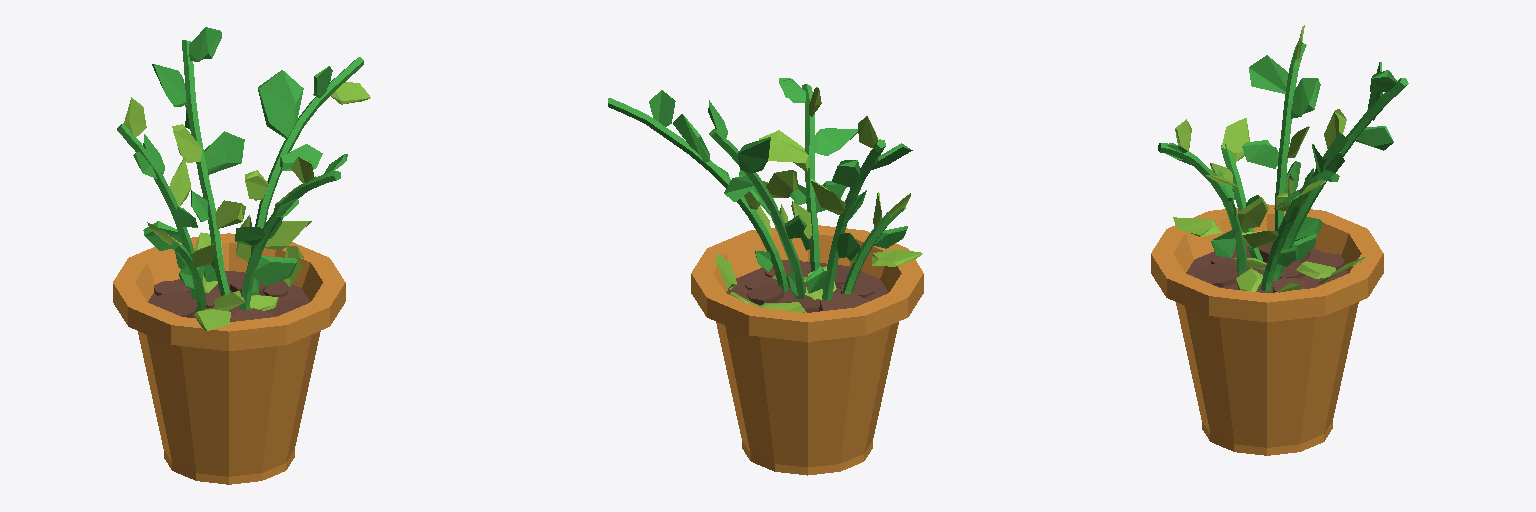
3 renders of one model, left to right at view 1: azimuth 30°, elevation 25°; view 2: azimuth 150°, elevation 25°; view 3: azimuth 270°, elevation 25°, orthographic.
Parts seen in each view (by area): view 1: group[number redacted]; view 2: group[number redacted]; view 3: group[number redacted].
Part boxes in pixels (x1,y1,x2,y2): group[number redacted]: (113,27,370,484); group[number redacted]: (608,78,923,475); group[number redacted]: (1151,25,1408,455).
Bounding box in the file's own units: 0.2525 × 0.3393 × 0.2107.